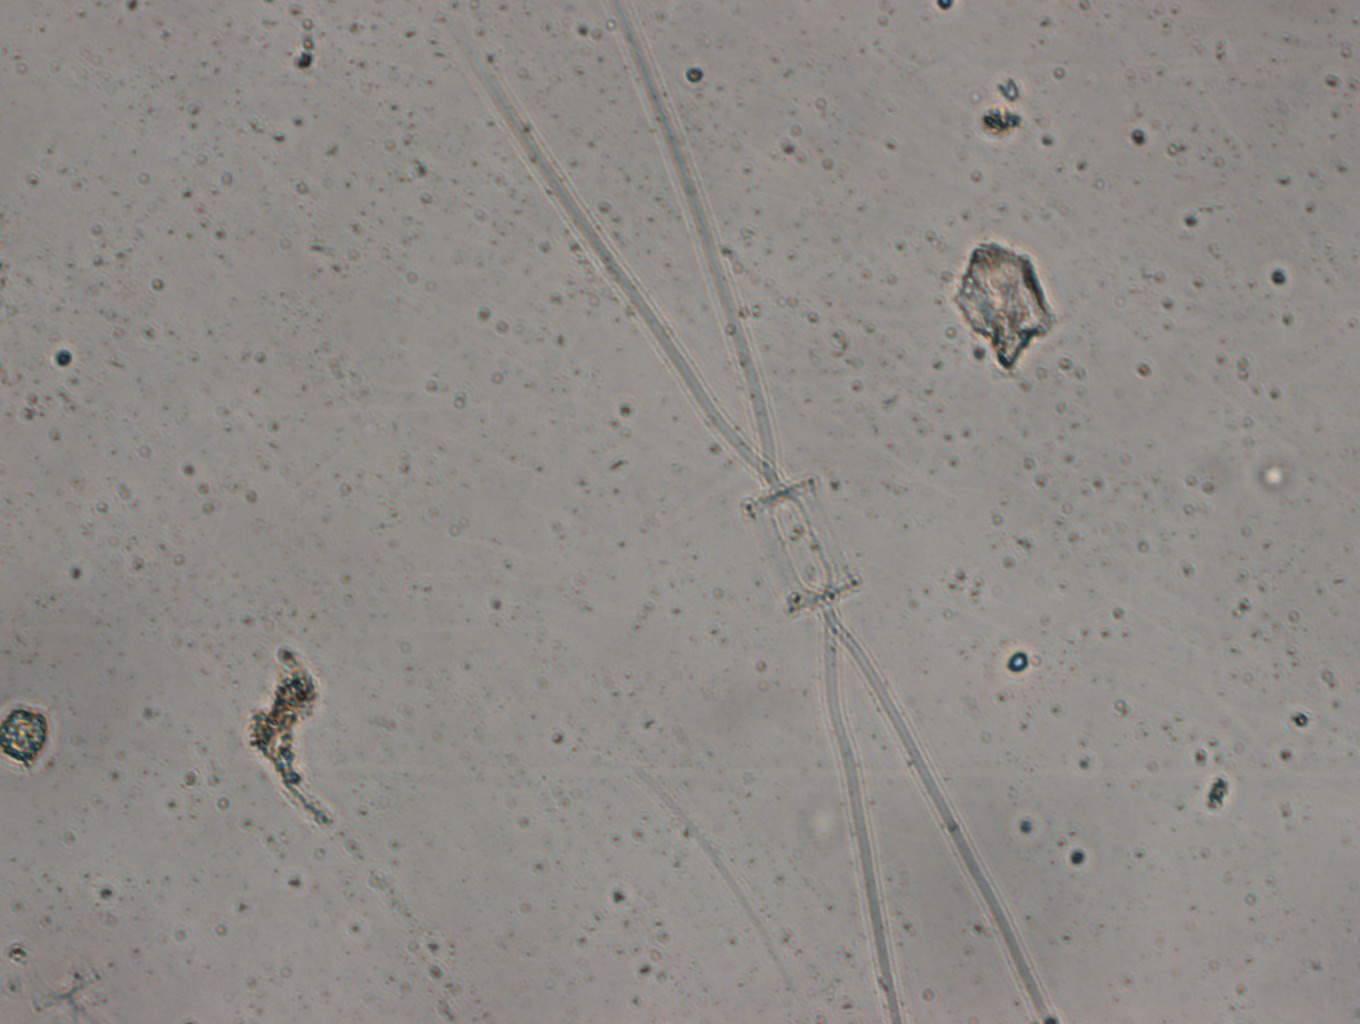chaetoceros: (446, 1, 1055, 1024)
